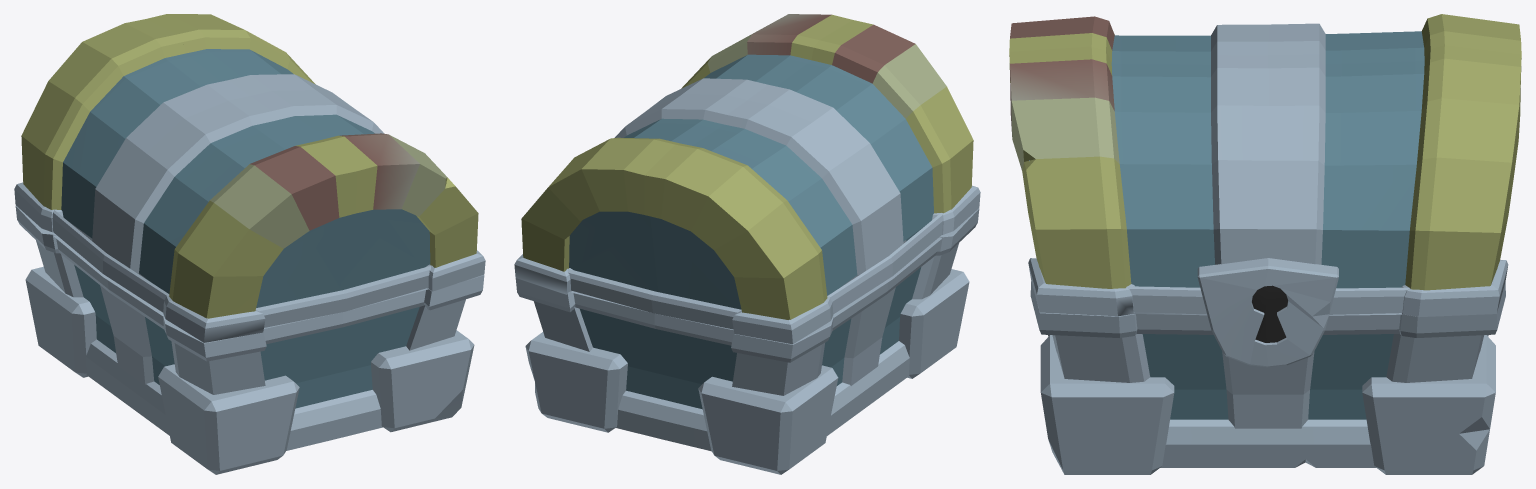
File: Chest.fbx
3 views of the same model, side by side, from view 1: azimuth 30°, elevation 25°; view 2: azimuth 150°, elevation 25°; view 3: azimuth 270°, elevation 25° (orthographic). The views are drawn at different scales.
Visible parts, largest first — view 1: chestlid, chest; view 2: chestlid, chest; view 3: chestlid, chest.
Part boxes in pixels (left/top/right/bottom): chestlid: left=14, top=14, right=485, bottom=342; chest: left=15, top=206, right=484, bottom=474; chestlid: left=514, top=14, right=980, bottom=344; chest: left=515, top=208, right=979, bottom=474; chestlid: left=1009, top=14, right=1521, bottom=317; chest: left=1030, top=258, right=1505, bottom=474.
Size of the model in its own units: 364 by 346 by 445.
